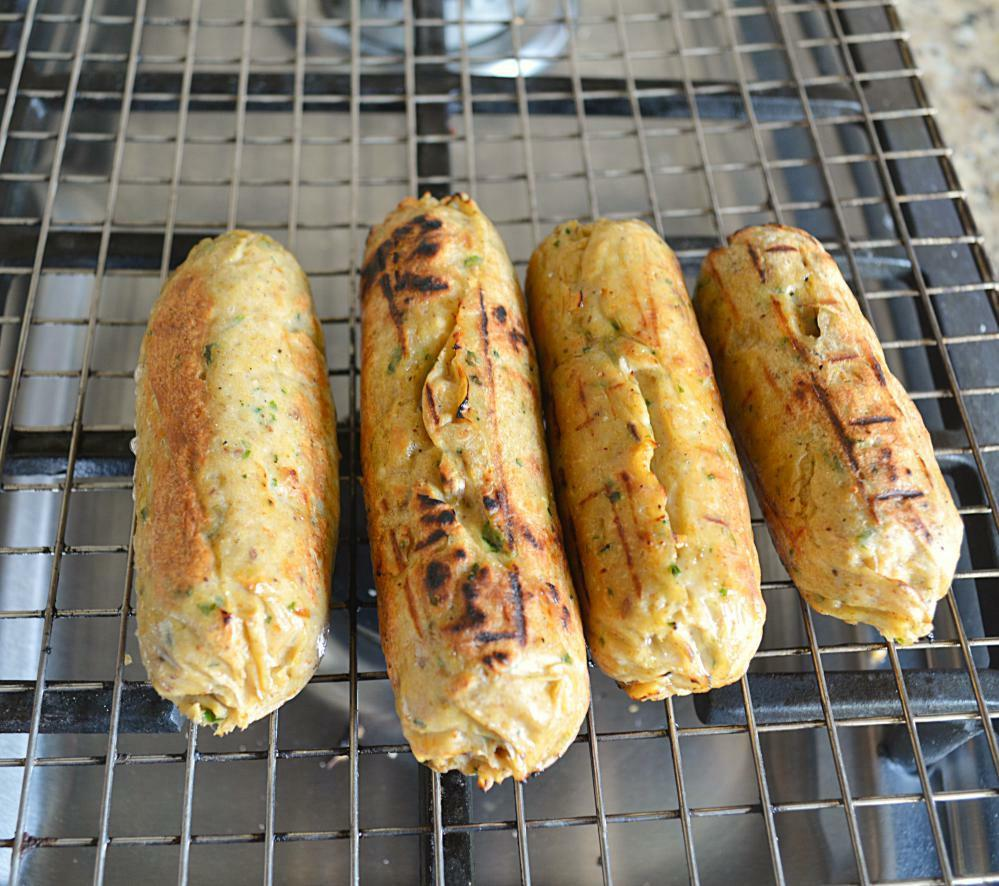Kebab: (360, 193, 588, 790), (526, 218, 766, 700), (692, 226, 964, 645), (135, 229, 336, 734)
